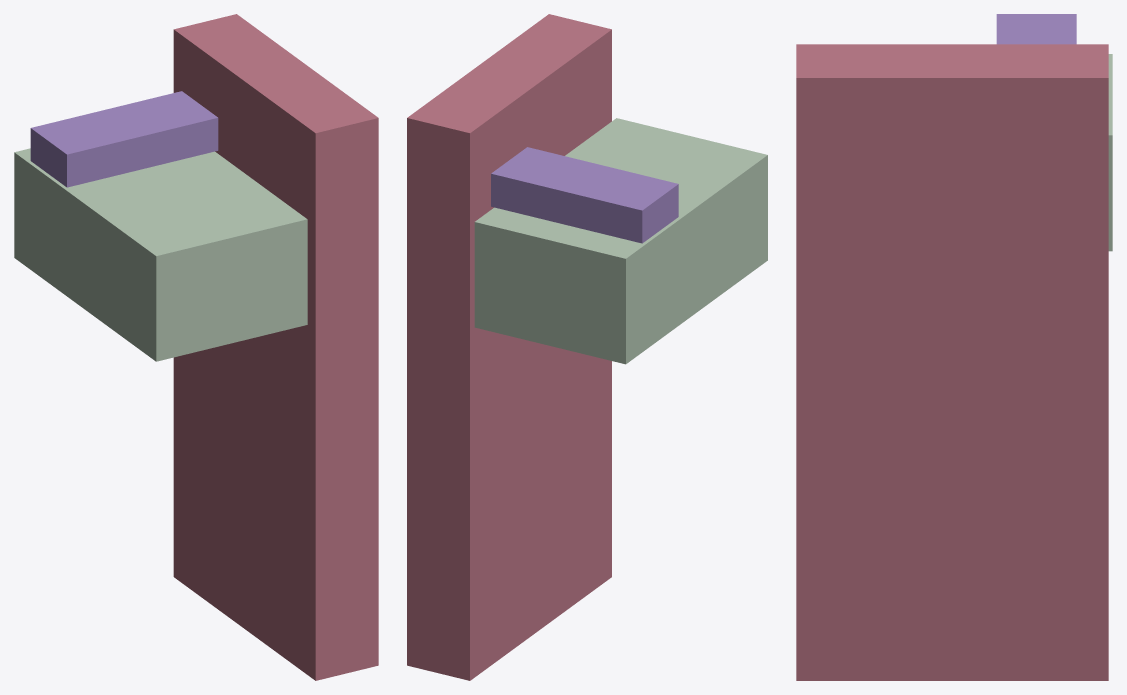
The model's file is 199519_pred.glb.
The picture shows the model from 3 angles, left to right: view 1: azimuth 30°, elevation 25°; view 2: azimuth 150°, elevation 25°; view 3: azimuth 270°, elevation 25°; orthographic projection. The views are drawn at different scales.
Visible parts, largest first — view 1: world; view 2: world; view 3: world.
Part boxes in pixels (left/top/right/bottom): world: left=14, top=14, right=378, bottom=680; world: left=407, top=14, right=767, bottom=680; world: left=796, top=14, right=1112, bottom=680.
Bounding box in the file's own units: 3.5 × 8.3 × 3.95.
